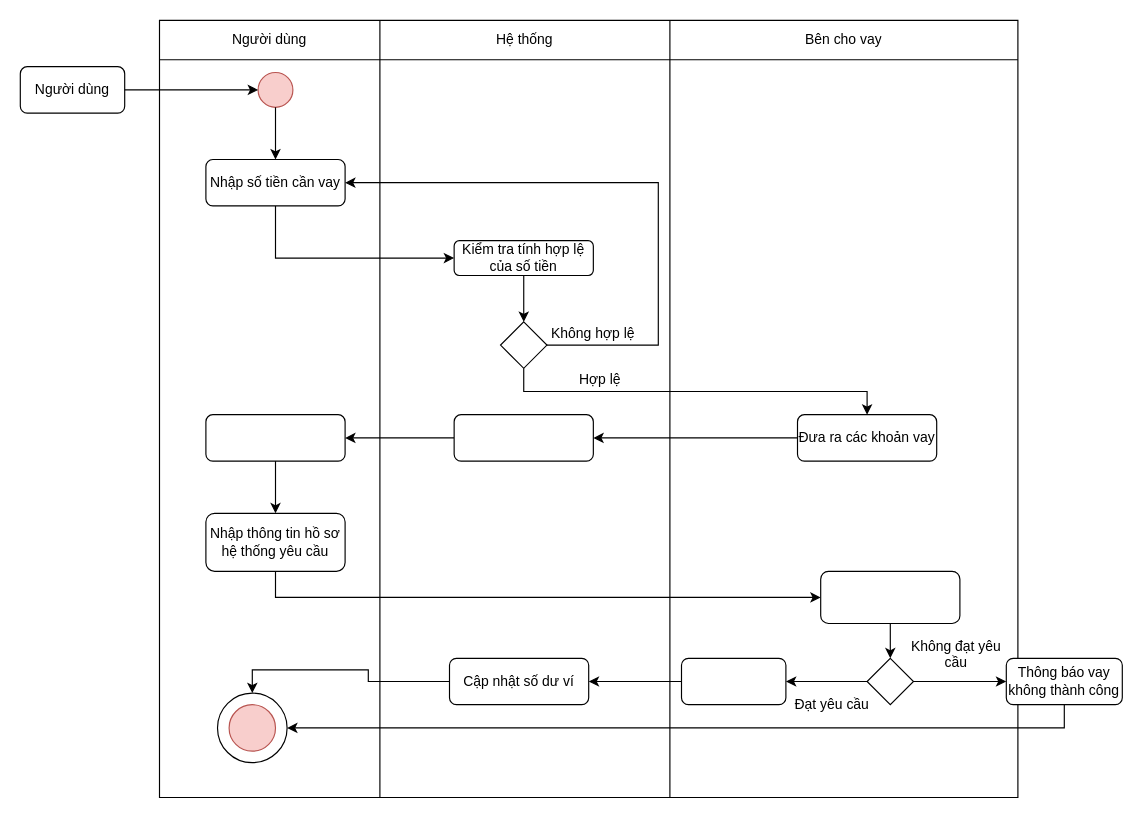
Some shapes in this 1143 by 818 pixel diagram are drawn without their labels. The shapes that lost their labels are listed below. From the top down, each one's centre as x and y in pixels, then its label:
pixel 275 437: Lựa chọn khoản vay phù hợp và bấm vay
pixel 523 437: Xem xét và đưa ra các khoản vay
pixel 890 597: xem xét hồ sơ người dùng
pixel 733 681: Thông báo vay thành công
